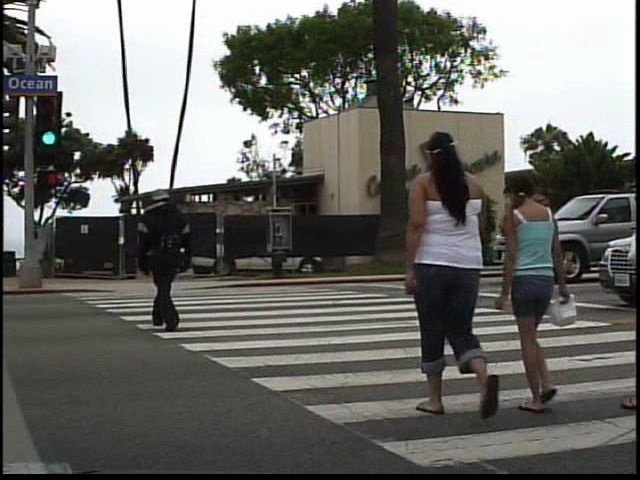person: (400, 125, 512, 429), (514, 165, 587, 427), (131, 175, 197, 339)
